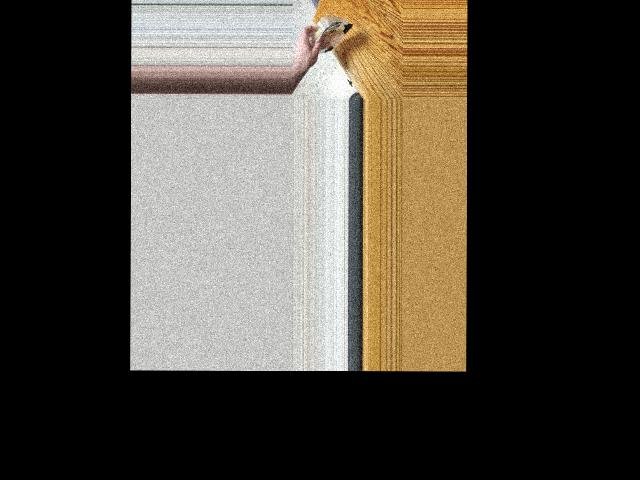cheese: (311, 8, 352, 65)
